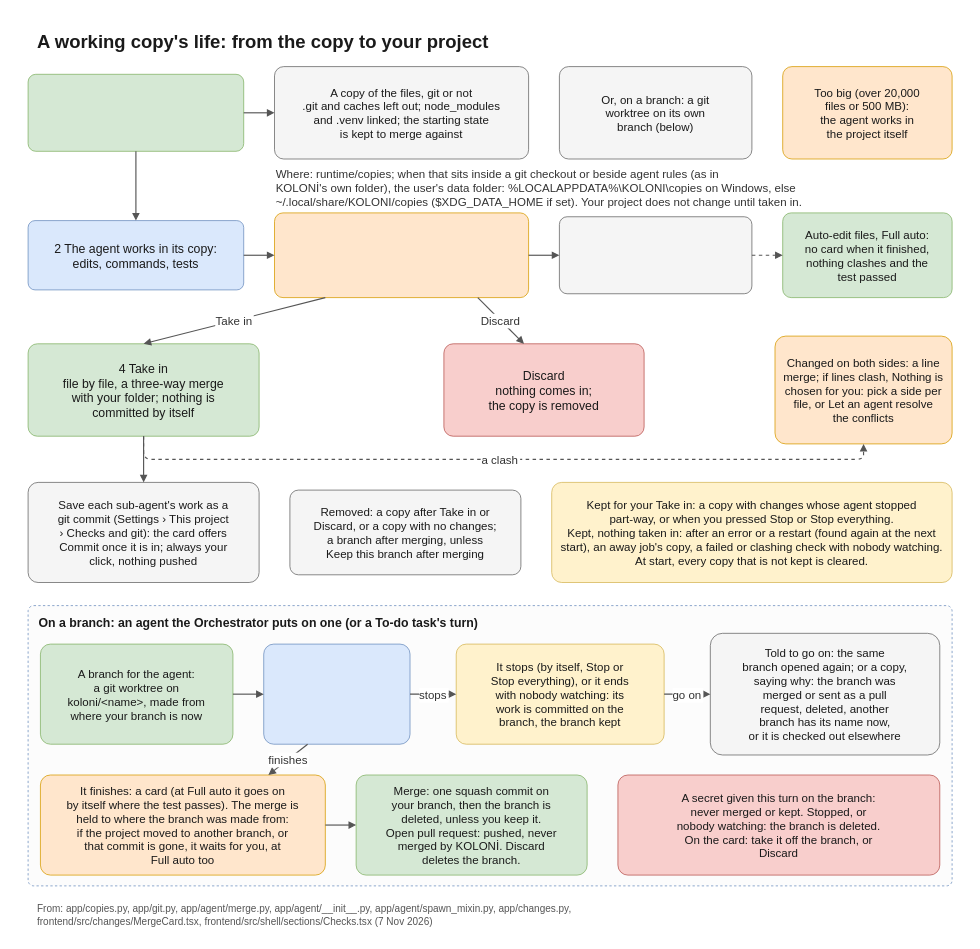
Some shapes in this 980 by 949 pixel diagram are drawn without their labels. The centre of each missing label's shape, as x and y in pixels:
"1 An agent's first change or command: KOLONİ makes its working copy" belongs at (135,112).
"3 It finishes: a card in Ready for you, Take in ...'s work?" belongs at (401,255).
"Run the test: the project's Test before adding command, run in the copy" belongs at (655,255).
"The agent works in its worktree: edits, commands, tests" belongs at (336,693).
